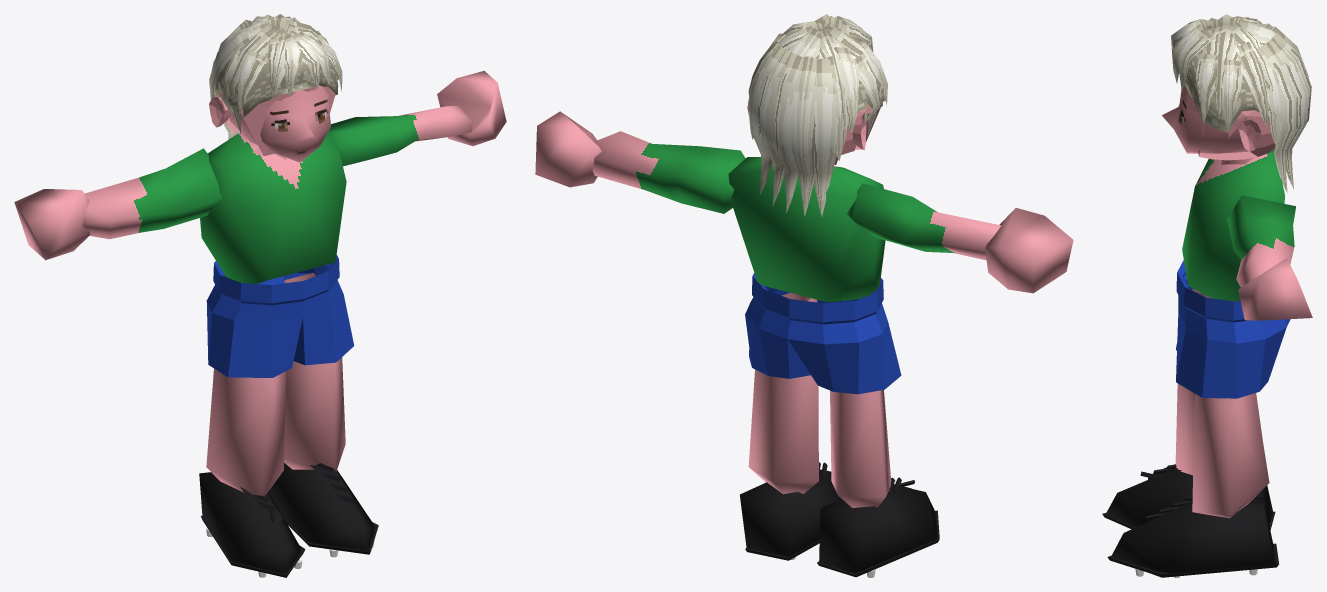
Rendered from 07-mullet_loiro-pintado.glb.
The picture shows the model from 3 angles, left to right: view 1: azimuth 30°, elevation 25°; view 2: azimuth 150°, elevation 25°; view 3: azimuth 270°, elevation 25°; orthographic projection. The views are drawn at different scales.
Visible parts, largest first — view 1: Camisa_Tronco, Bermuda, Cabelo, Perna.R, Braco.R, Perna.L, Chuteira.R, Chuteira.L, Braco.L, Mao.R, Cabeca, Mao.L (+3 smaller); view 2: Cabelo, Camisa_Tronco, Bermuda, Perna.L, Braco.L, Chuteira.R, Perna.R, Braco.R, Mao.R, Chuteira.L, Mao.L, Chuteira_Sola.R; view 3: Cabelo, Bermuda, Chuteira.L, Camisa_Tronco, Perna.L, Braco.L, Mao.L, Chuteira.R, Cabeca, Perna.R, Cranio, Chuteira_Sola.L (+3 smaller).
Boxes of the visible parts, x1,y1,x2,y2 form: Camisa_Tronco: (200,133,346,283); Bermuda: (206,255,354,377); Cabelo: (209,14,342,139); Perna.R: (206,368,286,500); Braco.R: (82,148,222,239); Perna.L: (284,272,345,471); Chuteira.R: (199,472,303,573); Chuteira.L: (269,463,374,550); Braco.L: (328,105,473,166); Mao.R: (14,189,90,260); Cabeca: (221,85,331,162); Mao.L: (437,70,506,145); Cabelo: (748,14,887,216); Camisa_Tronco: (728,157,885,302); Bermuda: (745,273,901,394); Perna.L: (748,293,818,494); Braco.L: (593,131,745,213); Chuteira.R: (819,484,937,572); Perna.R: (830,390,891,507); Braco.R: (847,183,1001,260); Mao.R: (985,208,1073,293); Chuteira.L: (740,469,841,556); Mao.L: (535,111,601,187); Chuteira_Sola.R: (817,510,939,577); Cabelo: (1171,14,1311,192); Bermuda: (1176,260,1290,398); Chuteira.L: (1111,497,1276,577); Camisa_Tronco: (1182,149,1284,301); Perna.L: (1192,393,1269,518); Braco.L: (1227,195,1295,287); Mao.L: (1238,258,1312,320); Chuteira.R: (1106,467,1272,526); Cabeca: (1162,85,1248,153); Perna.R: (1175,288,1262,475); Cranio: (1198,110,1275,160); Chuteira_Sola.L: (1107,543,1278,577).
Bounding box in the file's own units: 0.4523 × 0.4501 × 0.1617.
Materials: 3 (3 with a texture image).
